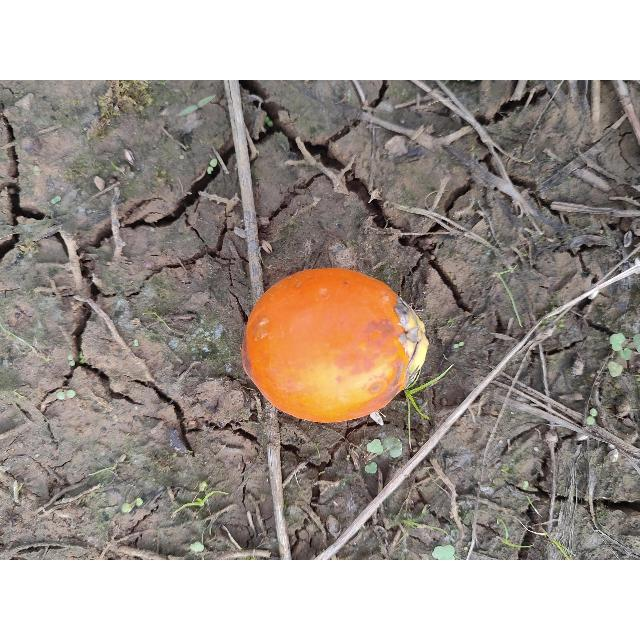good: (243, 268, 427, 425)
